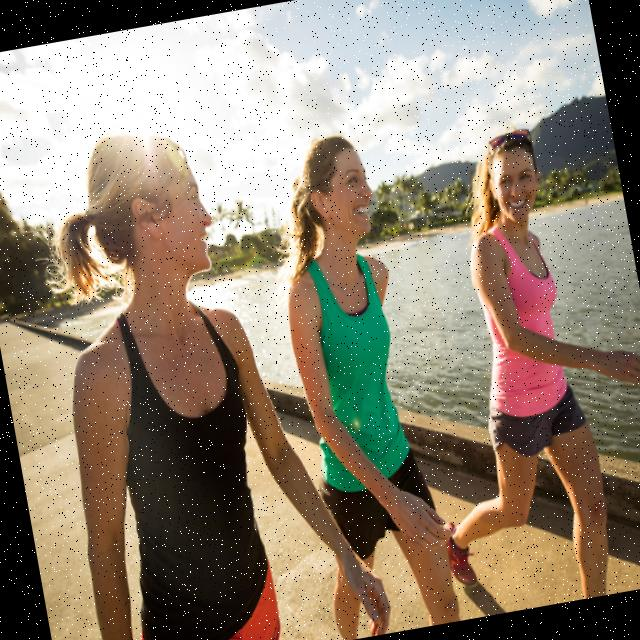Person: (13, 102, 396, 640), (378, 109, 640, 619), (249, 123, 468, 640)
